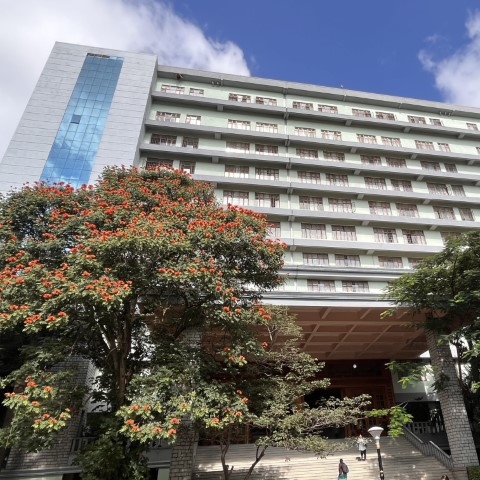Central Block: (12, 21, 480, 480)
